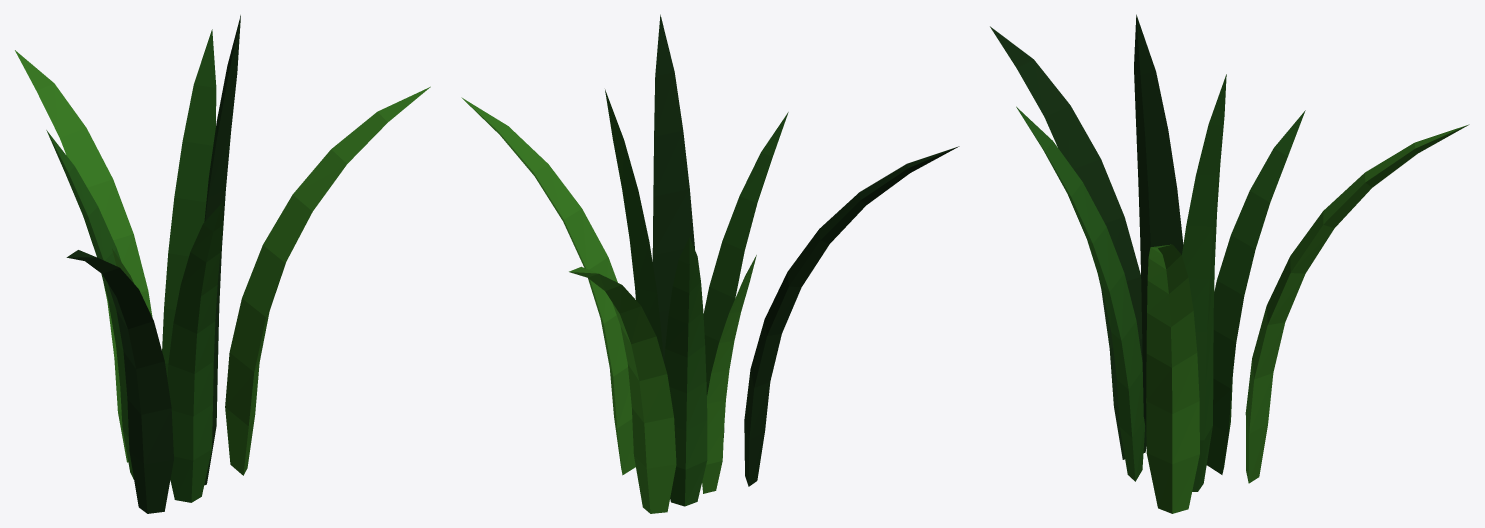
File: grass-tuft-a40a08.fbx
The picture shows the model from 3 angles, left to right: view 1: azimuth 30°, elevation 25°; view 2: azimuth 150°, elevation 25°; view 3: azimuth 270°, elevation 25°; orthographic projection. The views are drawn at different scales.
Parts seen in each view (by area): view 1: grass-tuft-mesh; view 2: grass-tuft-mesh; view 3: grass-tuft-mesh.
Part boxes in pixels (<box>): grass-tuft-mesh: <box>15,15,430,513</box>; grass-tuft-mesh: <box>461,14,959,513</box>; grass-tuft-mesh: <box>990,14,1469,513</box>.
Bounding box in the file's own units: 0.344 × 0.3477 × 0.3109.
